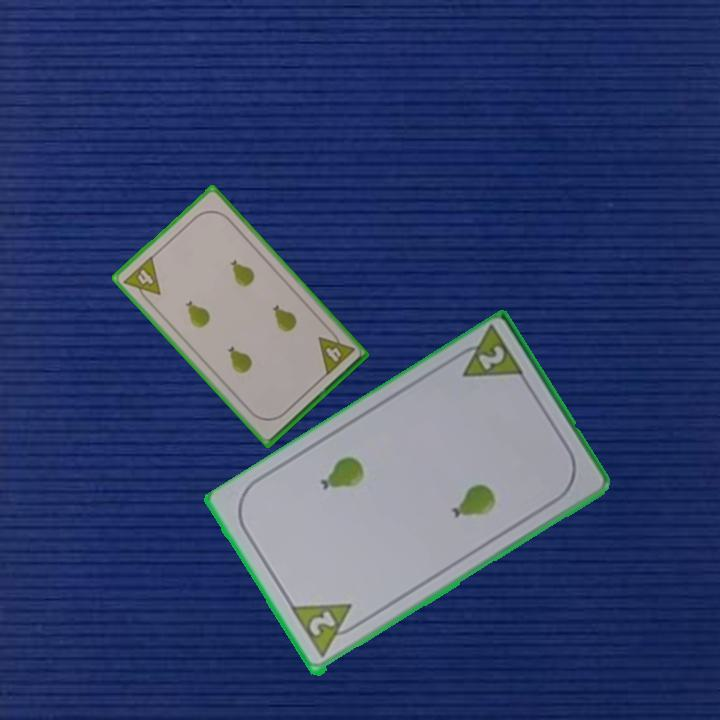2p: (288, 599, 365, 661), (448, 324, 528, 383)
4p: (119, 252, 164, 307), (314, 325, 357, 379)
